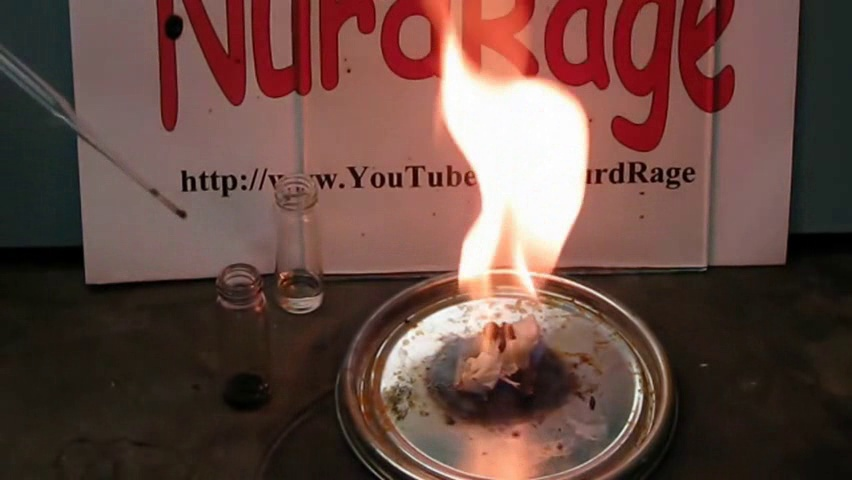fire: (422, 7, 592, 309)
